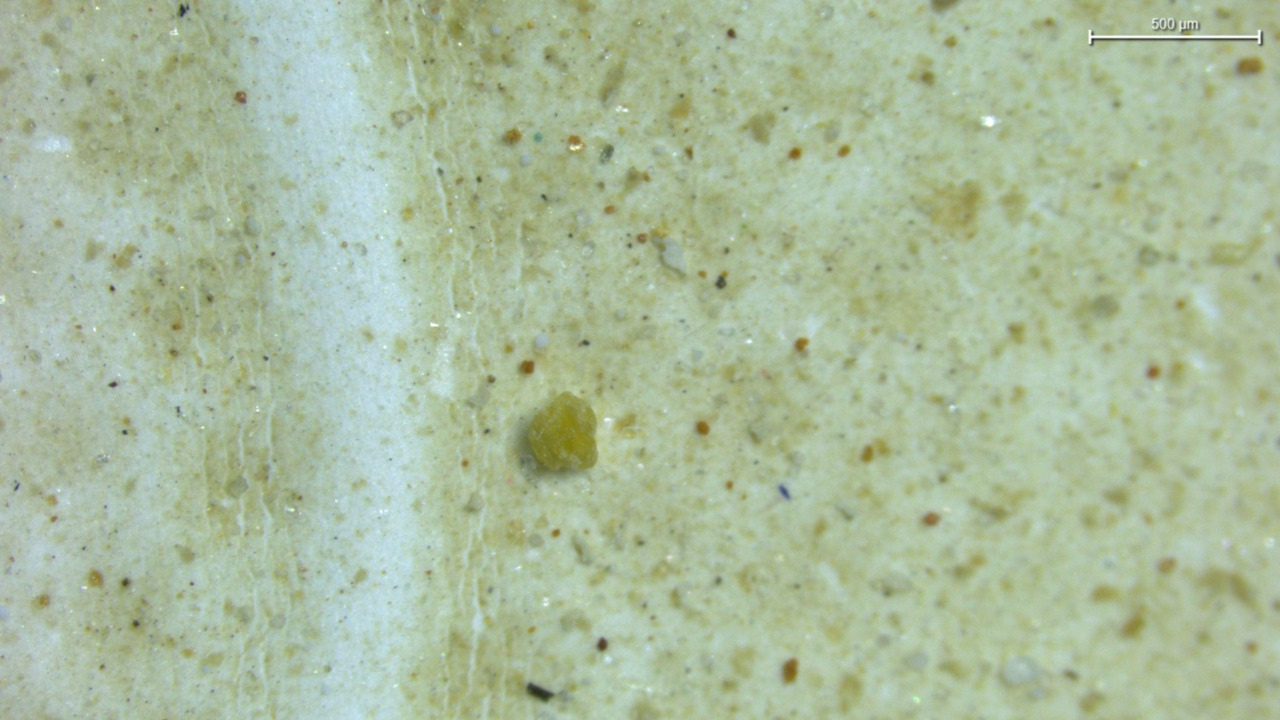microplastic_fragment: (528, 392, 597, 470), (654, 236, 684, 273)
